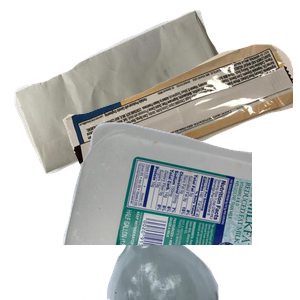glass: (83, 120, 294, 300)
paper: (12, 10, 240, 176)
plastic: (60, 120, 300, 300)
trash: (60, 42, 300, 219)
